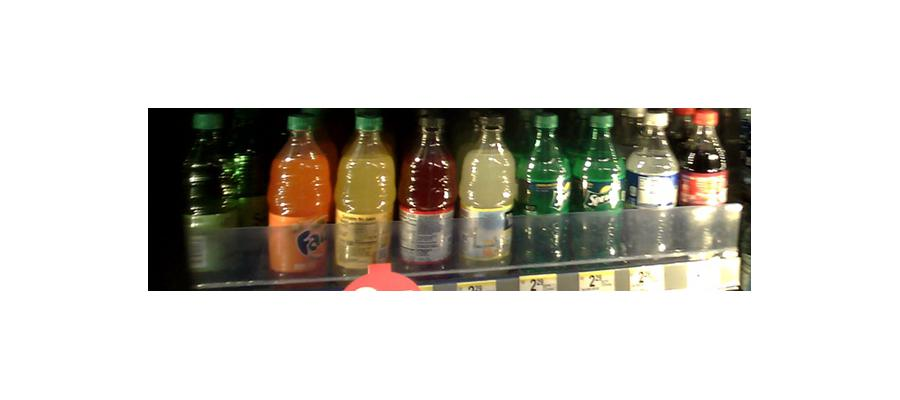bottle: (179, 121, 256, 279), (268, 113, 332, 281), (335, 111, 395, 271), (399, 113, 456, 273), (459, 112, 514, 273), (517, 106, 568, 267), (626, 106, 677, 260), (573, 108, 623, 264), (679, 108, 729, 256)
